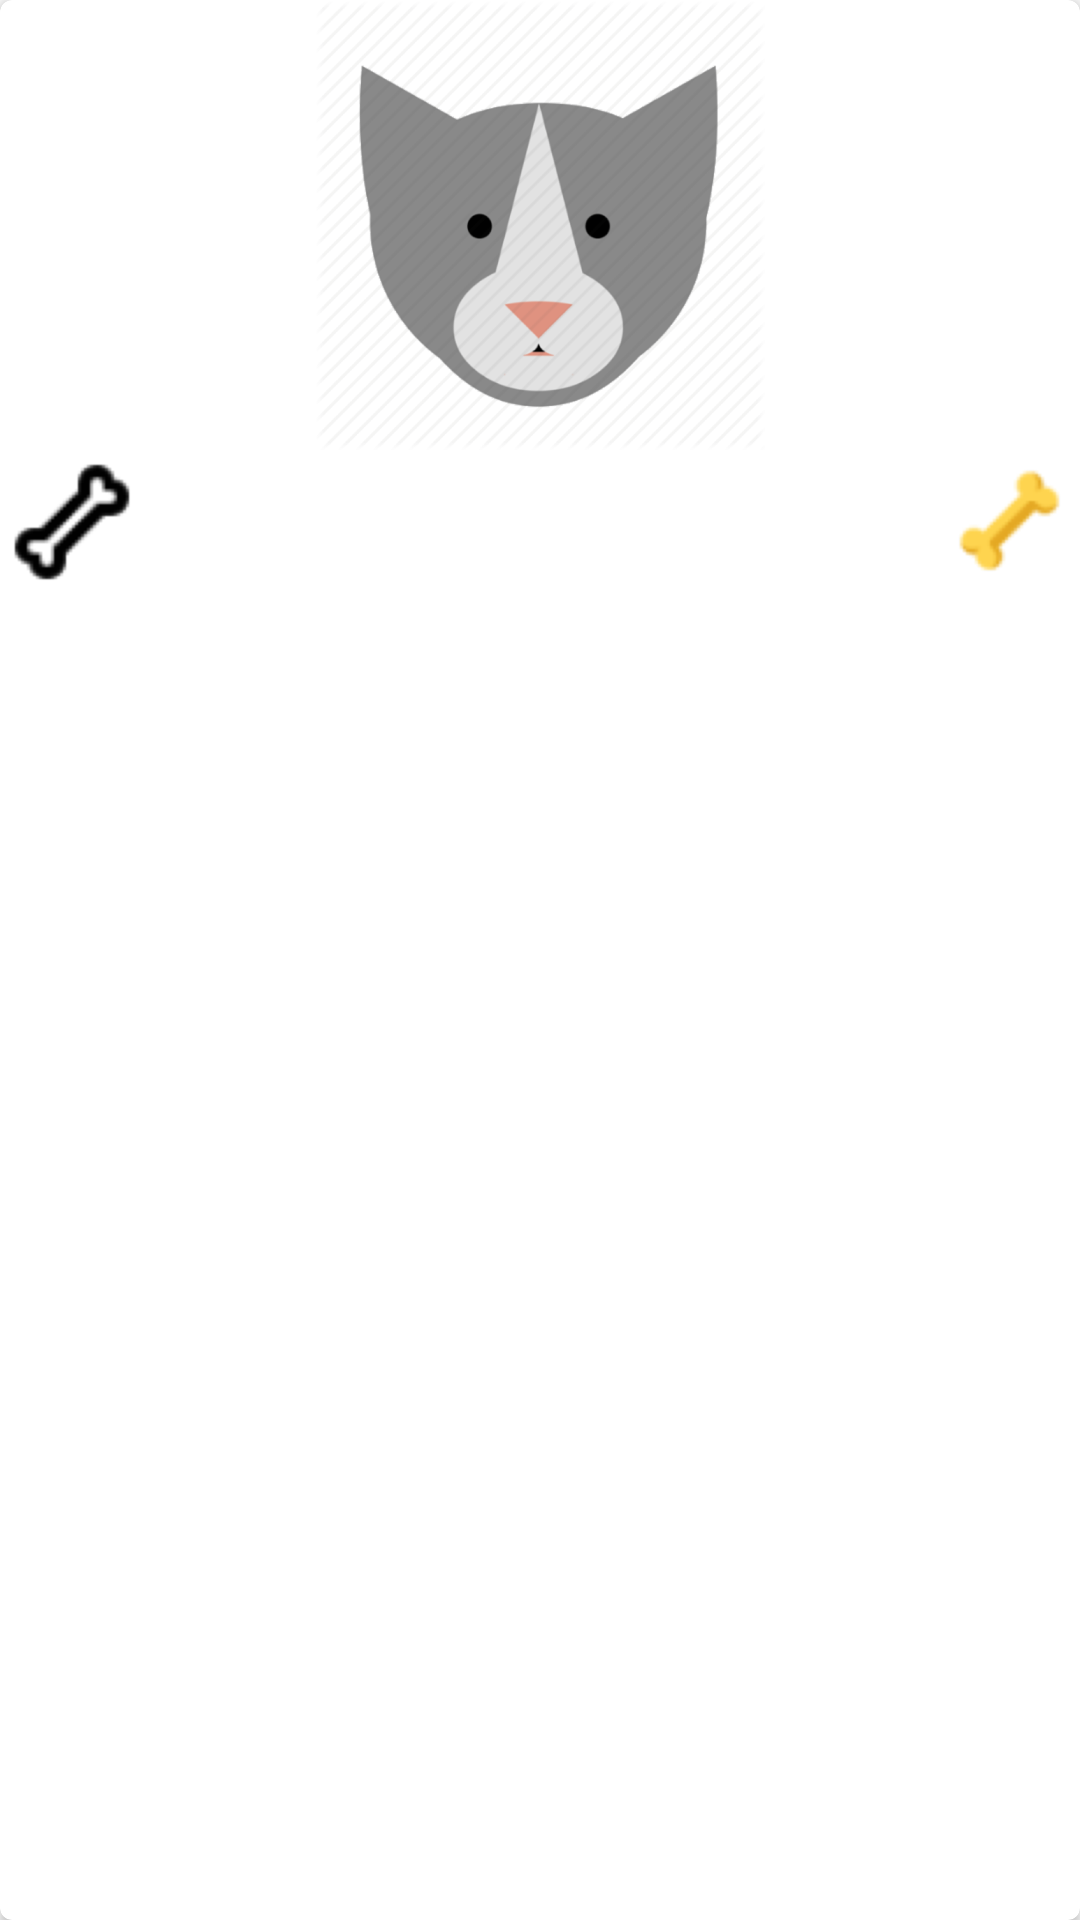

Locate icon controls on the screen. Image size 1080px×1920px, boxes as (x1, y1, x2, y2).
bone: (14, 464, 130, 580)
